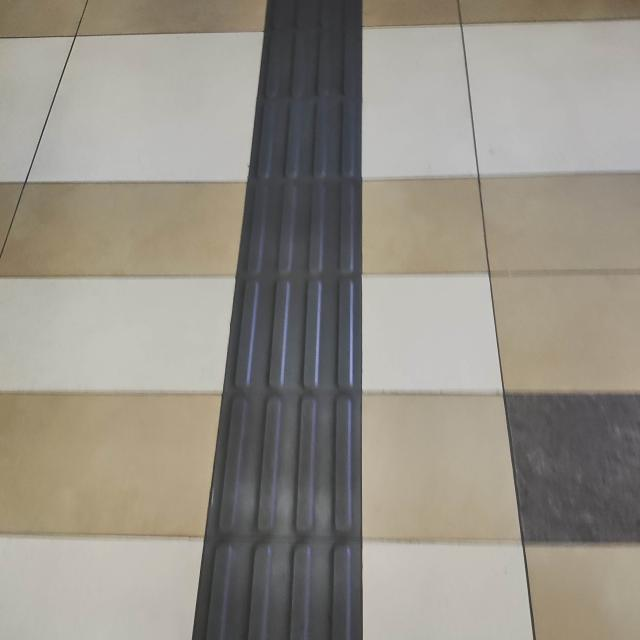lurus: (219, 0, 359, 640)
